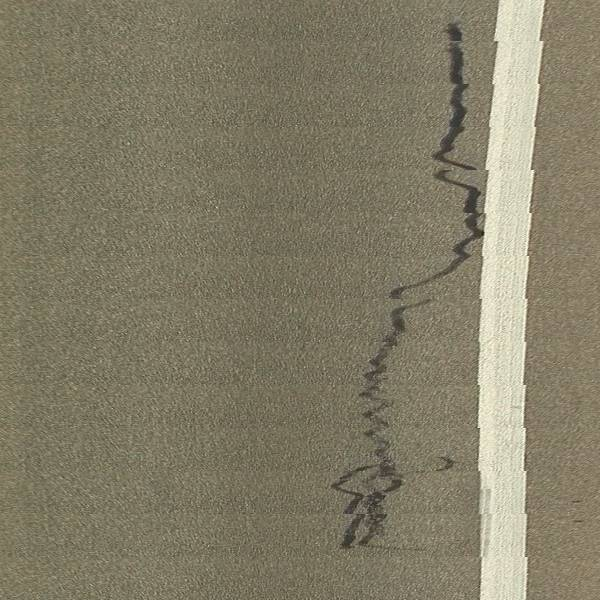road_damage: (324, 275, 440, 557), (433, 17, 485, 264)
